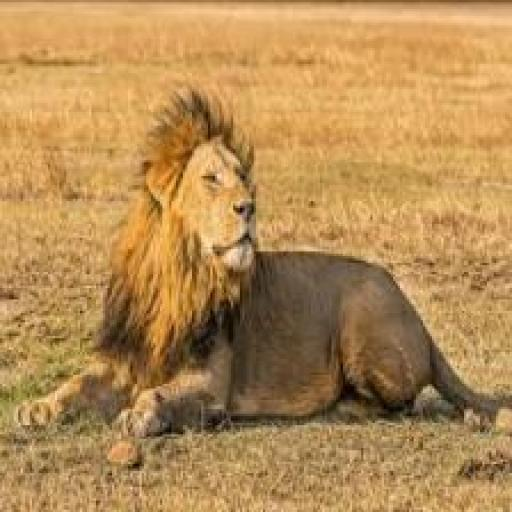lion: (126, 84, 456, 460)
